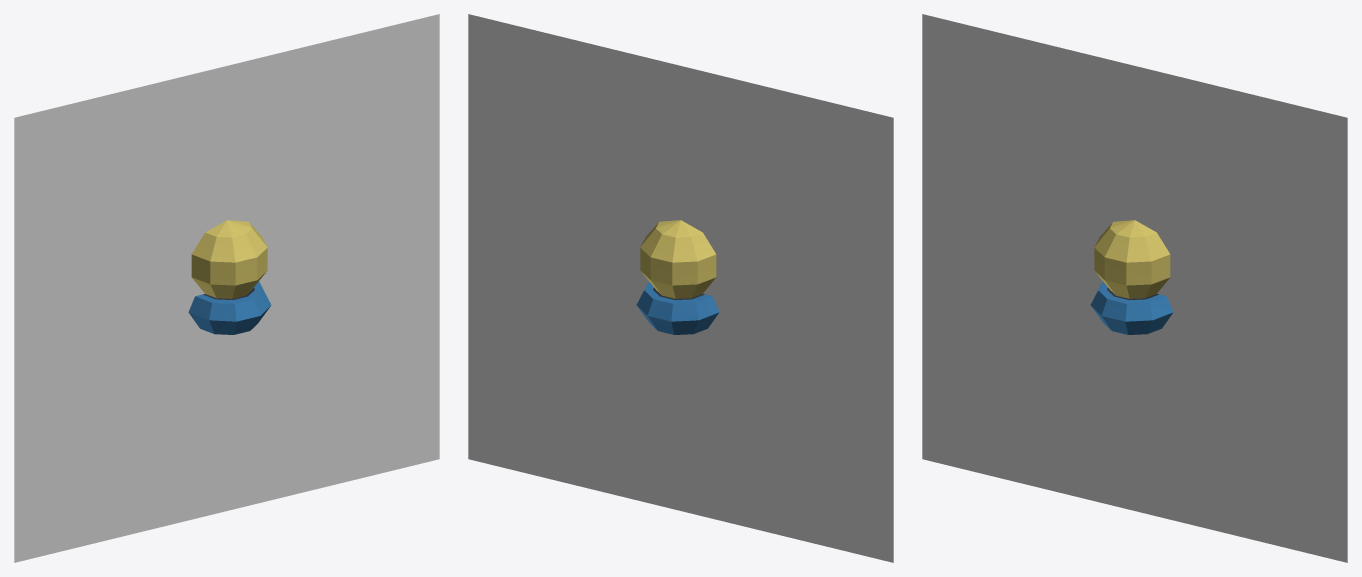
The model's file is Wall Lamp1.fbx.
3 renders of one model, left to right at view 1: azimuth 30°, elevation 25°; view 2: azimuth 150°, elevation 25°; view 3: azimuth 330°, elevation 25°, orthographic.
Visible parts, largest first — view 1: plane, Light Itself, Holder; view 2: plane, Light Itself, Holder; view 3: plane, Light Itself, Holder.
Boxes of the visible parts, x1,y1,x2,y2 form: plane: [14, 14, 439, 562]; Light Itself: [191, 220, 267, 298]; Holder: [188, 281, 271, 334]; plane: [468, 14, 893, 562]; Light Itself: [640, 220, 716, 298]; Holder: [636, 281, 719, 334]; plane: [922, 14, 1347, 562]; Light Itself: [1094, 220, 1170, 298]; Holder: [1090, 281, 1173, 334].
Size of the model in its own units: 200 by 200 by 35.22.
Materials: 3 (3 with a texture image).
